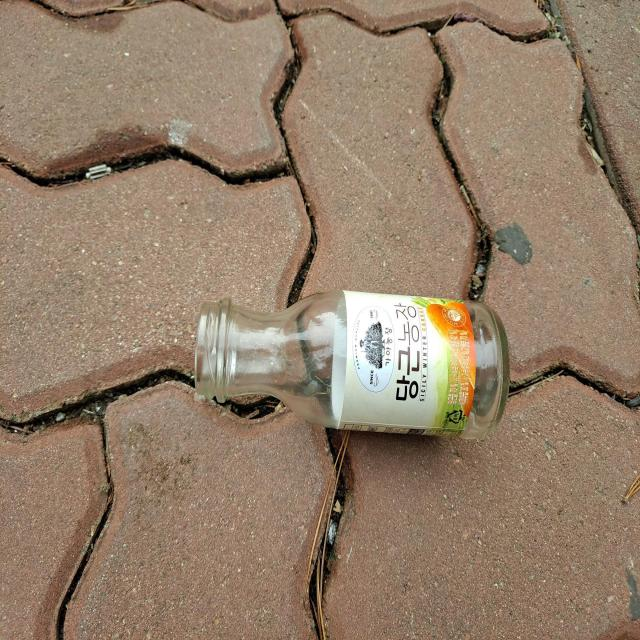glass: (195, 290, 510, 439)
